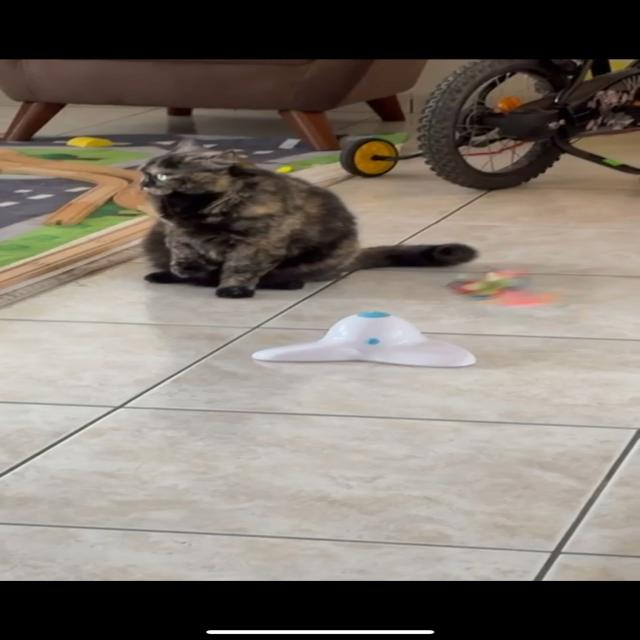authorized: (136, 136, 478, 298)
